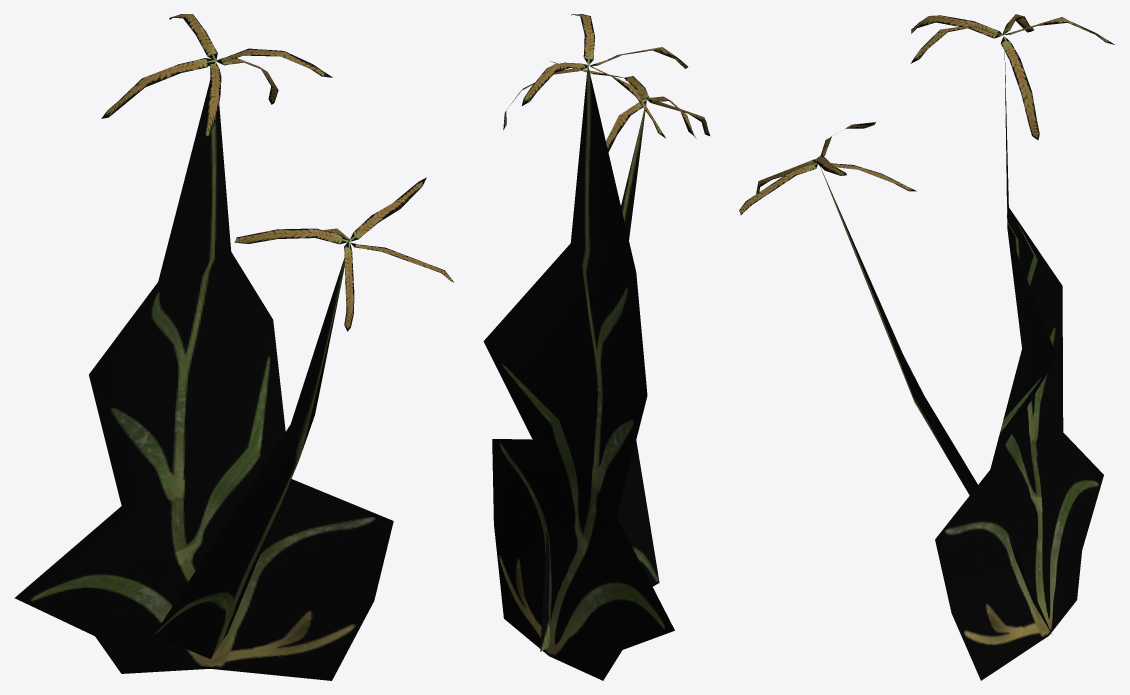
The model's file is grass_b_far.gltf.
3 views of the same model, side by side, from view 1: azimuth 30°, elevation 25°; view 2: azimuth 150°, elevation 25°; view 3: azimuth 270°, elevation 25° (orthographic). The views are drawn at different scales.
Parts seen in each view (by area): view 1: grass_b_far; view 2: grass_b_far; view 3: grass_b_far.
Boxes of the visible parts, <box> form: grass_b_far: <box>14,14,453,680</box>; grass_b_far: <box>483,14,710,680</box>; grass_b_far: <box>739,14,1114,680</box>.
Bounding box in the file's own units: 0.1922 × 0.4186 × 0.2308.
Materials: 1 (1 with a texture image).
